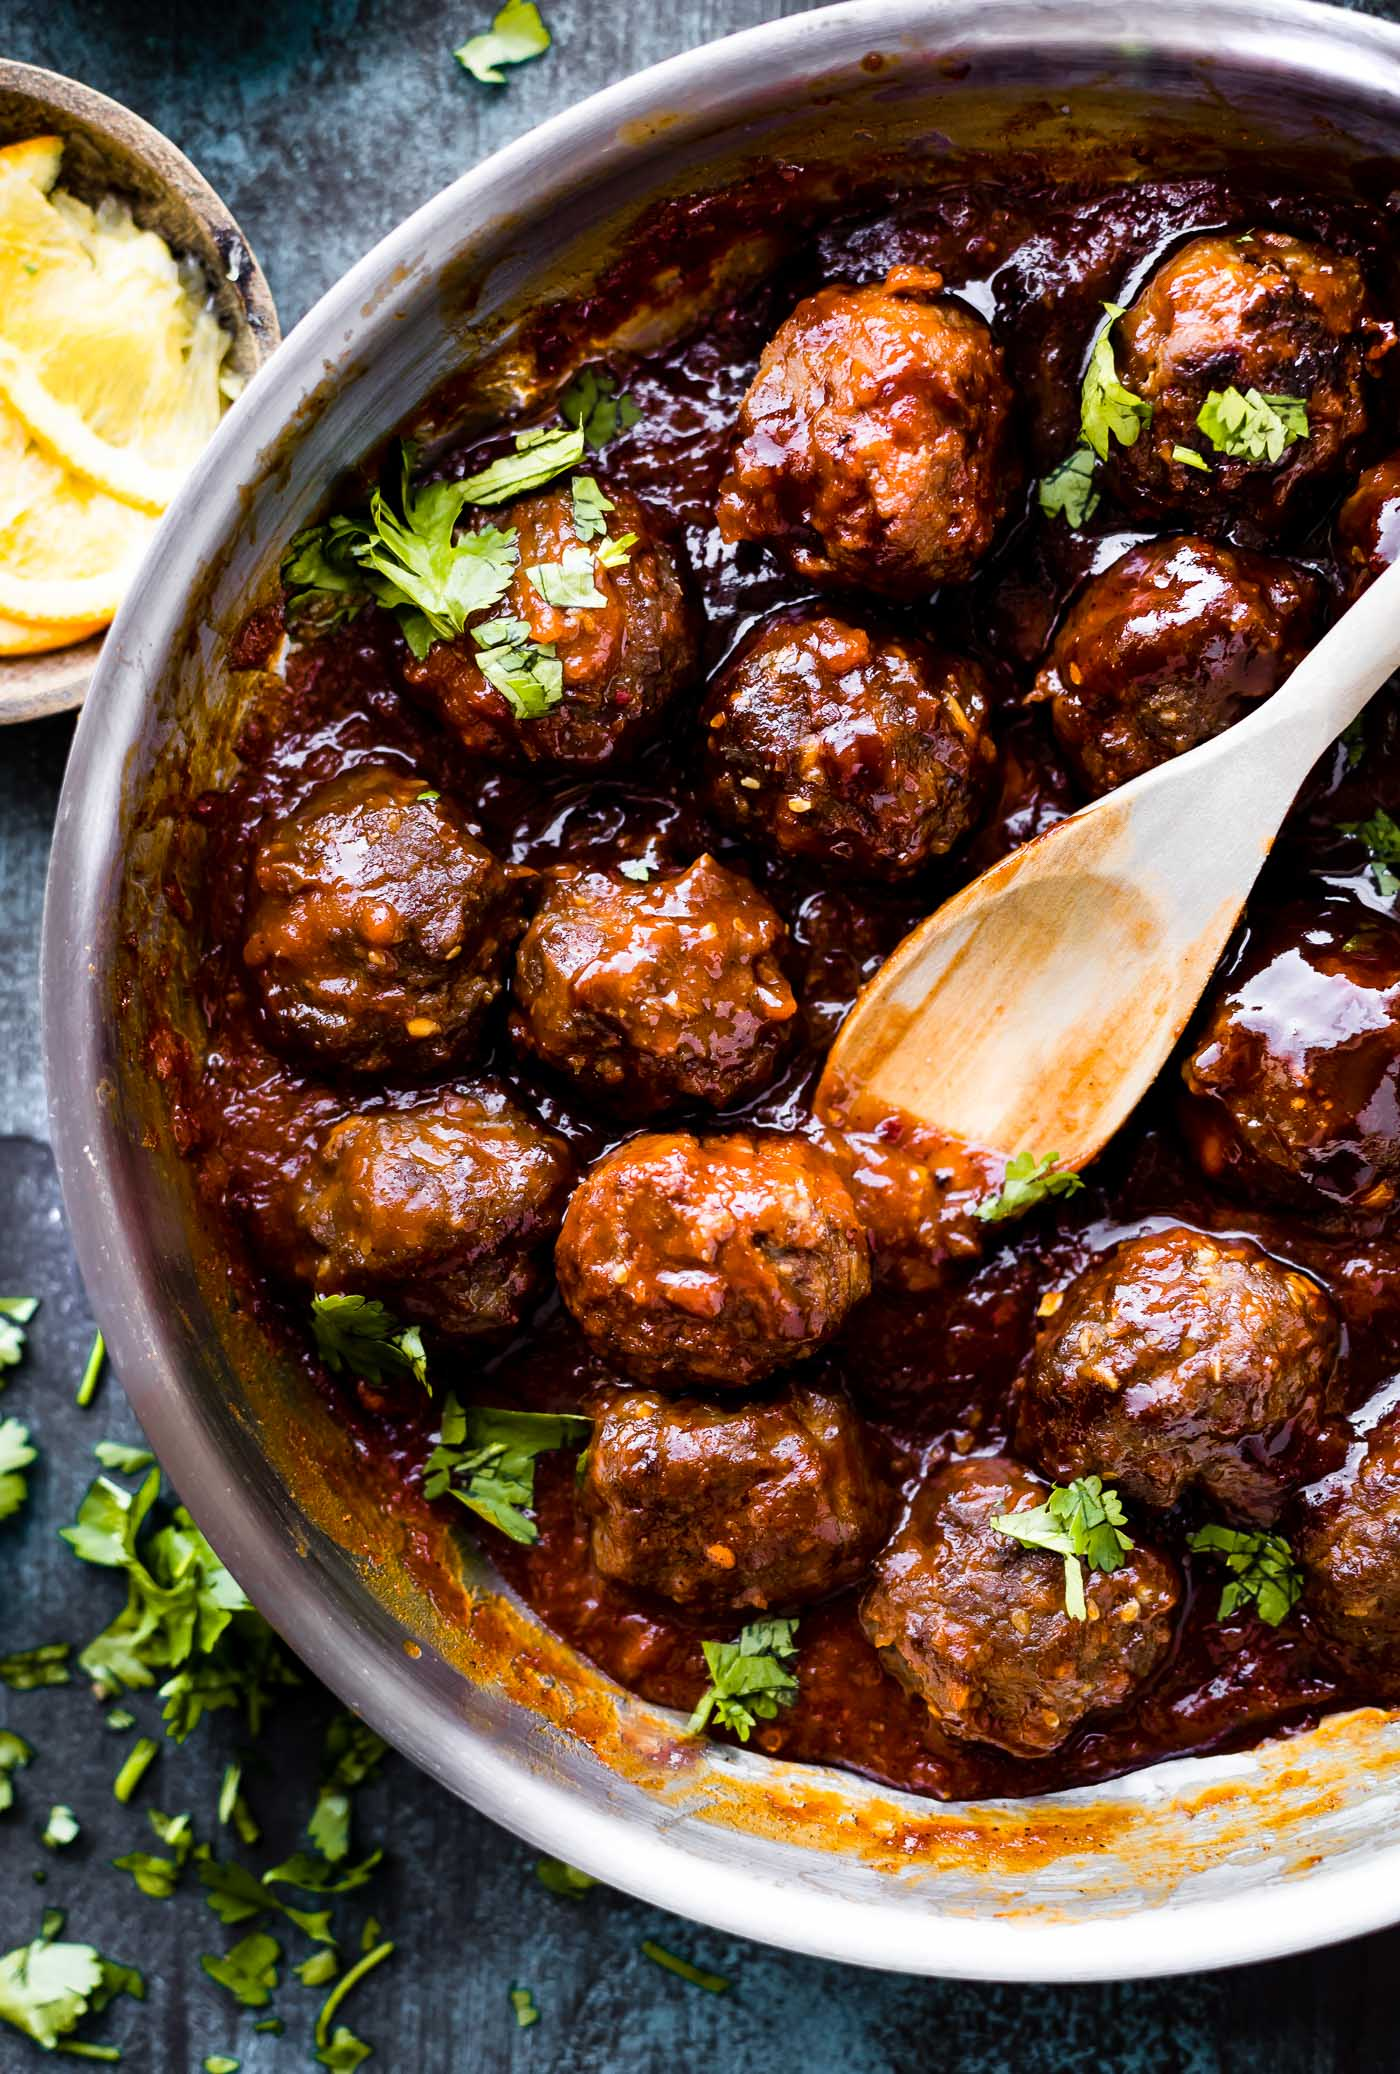meatballs: (225, 231, 1398, 1713)
